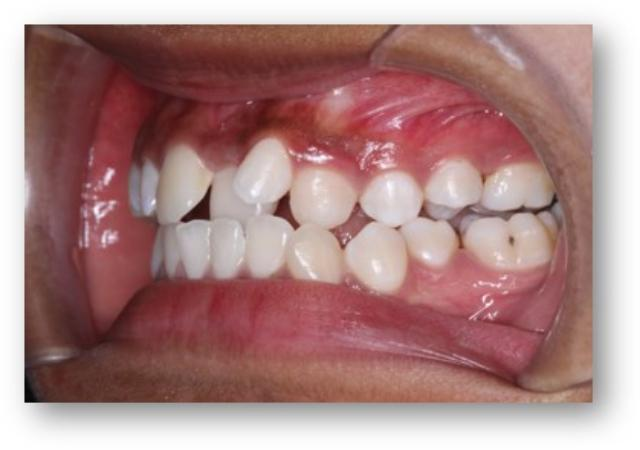canine class II 1/2: (286, 156, 426, 298)
molar class II 1/4: (462, 153, 564, 287)
